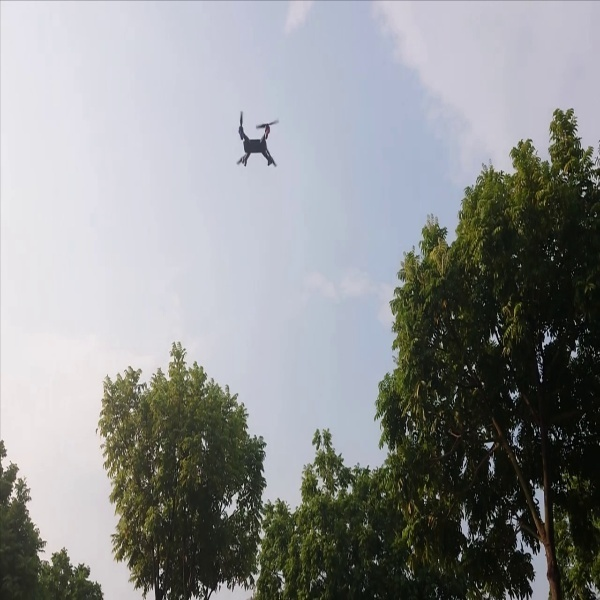drone: (232, 109, 284, 172)
